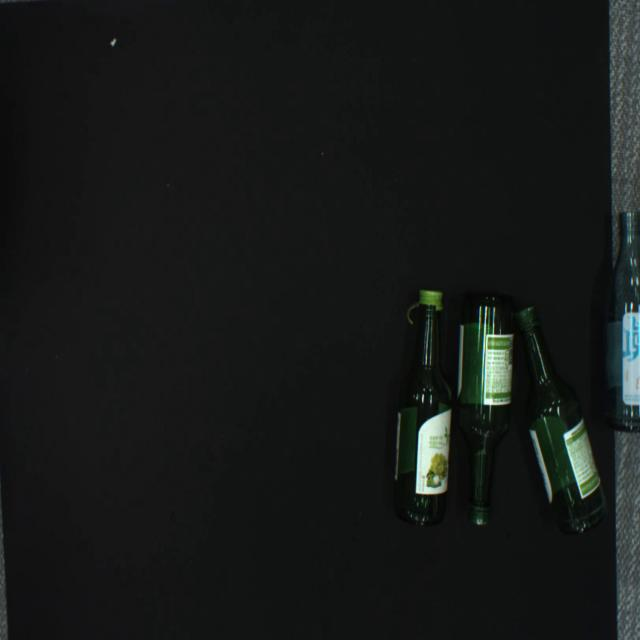soju-bottle: (515, 306, 609, 535), (391, 289, 453, 528), (454, 293, 515, 526), (600, 210, 640, 432)
